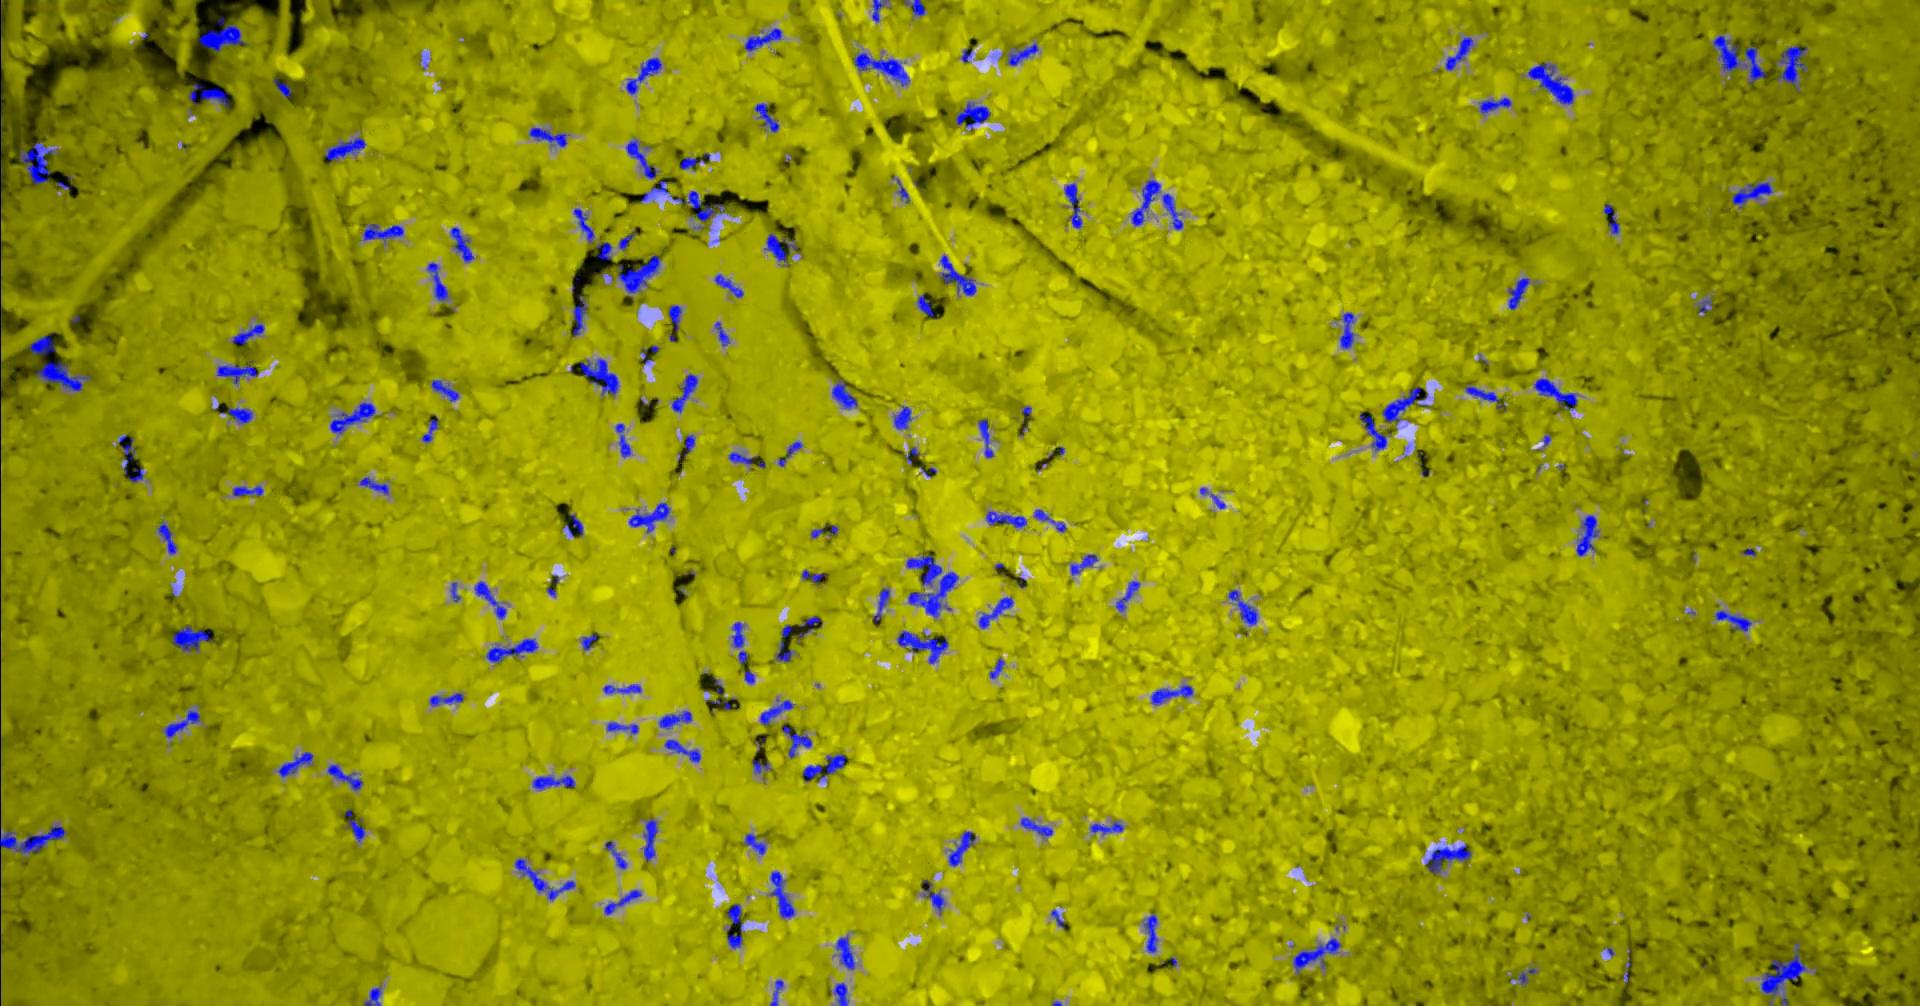ant: (1760, 942, 1806, 1005), (514, 857, 575, 899), (1712, 36, 1765, 83), (1528, 62, 1573, 104), (853, 52, 909, 85), (0, 826, 65, 854), (1293, 937, 1340, 976), (36, 361, 91, 391), (1382, 386, 1427, 423), (897, 630, 947, 663), (198, 17, 245, 52), (617, 254, 660, 292), (670, 191, 724, 221), (19, 141, 55, 183), (329, 401, 375, 433), (938, 255, 975, 295), (579, 358, 618, 395), (1533, 379, 1577, 410), (625, 57, 662, 94), (1777, 44, 1806, 90), (1131, 179, 1161, 225), (1425, 843, 1470, 873), (629, 502, 670, 532), (485, 638, 537, 662), (625, 138, 657, 178), (1359, 412, 1390, 450), (474, 580, 505, 619), (803, 753, 844, 781), (1464, 384, 1505, 412), (770, 871, 794, 917), (764, 232, 797, 265), (1731, 180, 1771, 207), (978, 597, 1013, 627), (781, 724, 811, 758), (1228, 589, 1257, 625), (171, 625, 212, 650), (670, 373, 697, 412), (955, 102, 990, 130), (163, 710, 199, 737), (276, 751, 312, 777), (188, 83, 229, 107), (216, 359, 257, 384), (603, 889, 641, 915), (324, 137, 364, 160), (1576, 514, 1599, 555), (743, 27, 781, 51), (328, 763, 362, 790), (949, 831, 975, 865), (1445, 36, 1472, 69), (759, 699, 792, 725), (425, 262, 448, 300), (1713, 610, 1751, 631), (450, 226, 472, 262), (1150, 685, 1192, 704), (1161, 193, 1182, 229), (664, 739, 700, 761), (528, 127, 568, 146), (1115, 580, 1139, 611), (1064, 183, 1081, 227), (726, 903, 743, 948), (573, 208, 594, 241), (231, 323, 264, 344), (1032, 509, 1065, 531), (922, 879, 943, 912), (830, 381, 857, 408), (754, 102, 778, 131), (714, 273, 743, 297), (363, 224, 403, 241), (1007, 42, 1037, 65), (985, 511, 1026, 527), (775, 624, 792, 661), (118, 434, 135, 474), (1509, 277, 1529, 309), (156, 521, 177, 553), (430, 379, 458, 401), (836, 936, 855, 969), (731, 622, 747, 663), (777, 441, 801, 466), (345, 809, 364, 841), (1020, 817, 1051, 836), (640, 180, 668, 202), (643, 818, 657, 861), (604, 840, 626, 868), (658, 710, 691, 728), (532, 775, 574, 789), (978, 419, 993, 457), (28, 333, 55, 354), (1070, 554, 1097, 575), (571, 295, 585, 335), (872, 588, 889, 622), (1143, 912, 1157, 951), (1478, 97, 1511, 113), (678, 152, 709, 170), (615, 423, 630, 457), (797, 615, 822, 636), (359, 476, 389, 494), (221, 406, 251, 423), (1338, 312, 1352, 348), (1603, 203, 1619, 232), (422, 414, 438, 442), (1090, 821, 1123, 835), (677, 434, 695, 460), (563, 513, 582, 536), (429, 692, 463, 705), (893, 405, 910, 429), (744, 833, 764, 854), (602, 683, 640, 694), (750, 754, 771, 774), (917, 293, 933, 316), (667, 305, 681, 332), (714, 321, 729, 345), (801, 569, 825, 584), (606, 721, 637, 733), (871, 0, 888, 22), (770, 979, 783, 1005), (273, 77, 291, 97), (903, 0, 924, 15), (834, 982, 848, 1005), (640, 345, 658, 363), (363, 987, 381, 1005), (232, 485, 263, 495), (1517, 968, 1537, 983), (989, 658, 1003, 678), (728, 452, 752, 464), (596, 243, 611, 260), (618, 232, 634, 249), (582, 633, 596, 650), (706, 699, 730, 709), (128, 467, 143, 481), (1698, 298, 1710, 312), (450, 582, 458, 601), (744, 669, 754, 683)
